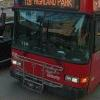Bus: (10, 2, 97, 96)
